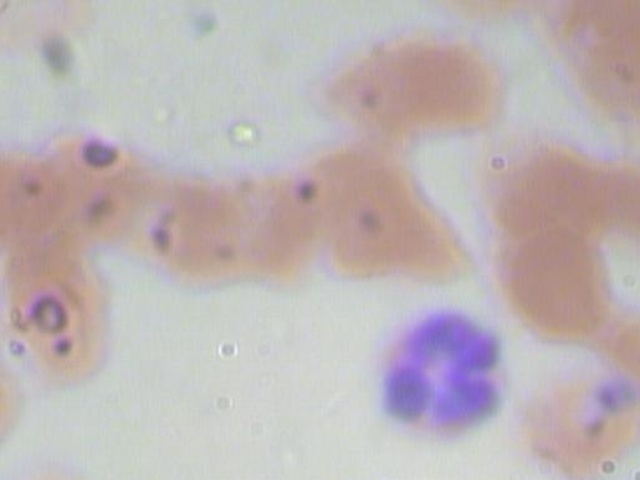RBC: (315, 27, 504, 146), (0, 244, 115, 395), (489, 225, 613, 338)
WBC: (365, 302, 522, 446)
